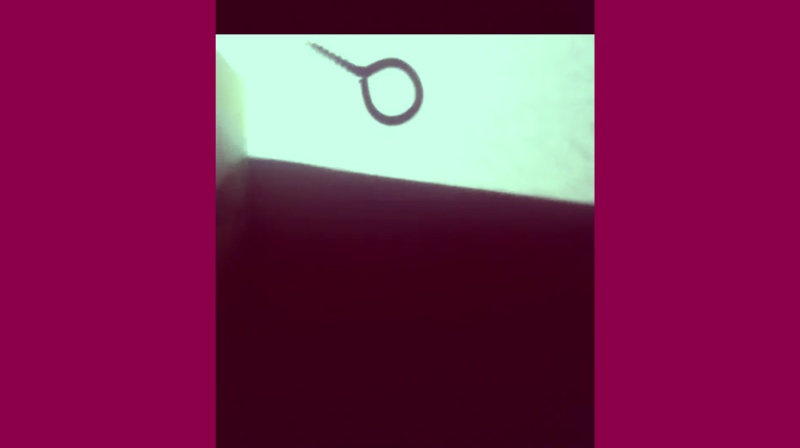O001: (302, 34, 425, 129)
